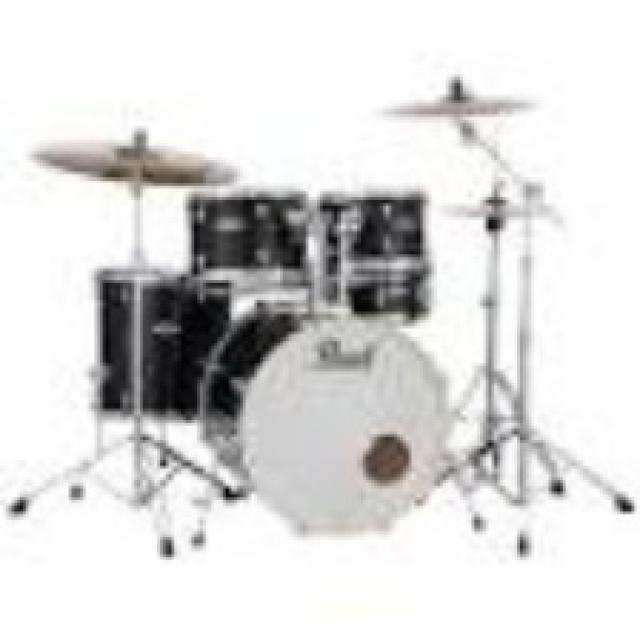drums: (0, 67, 640, 568)
